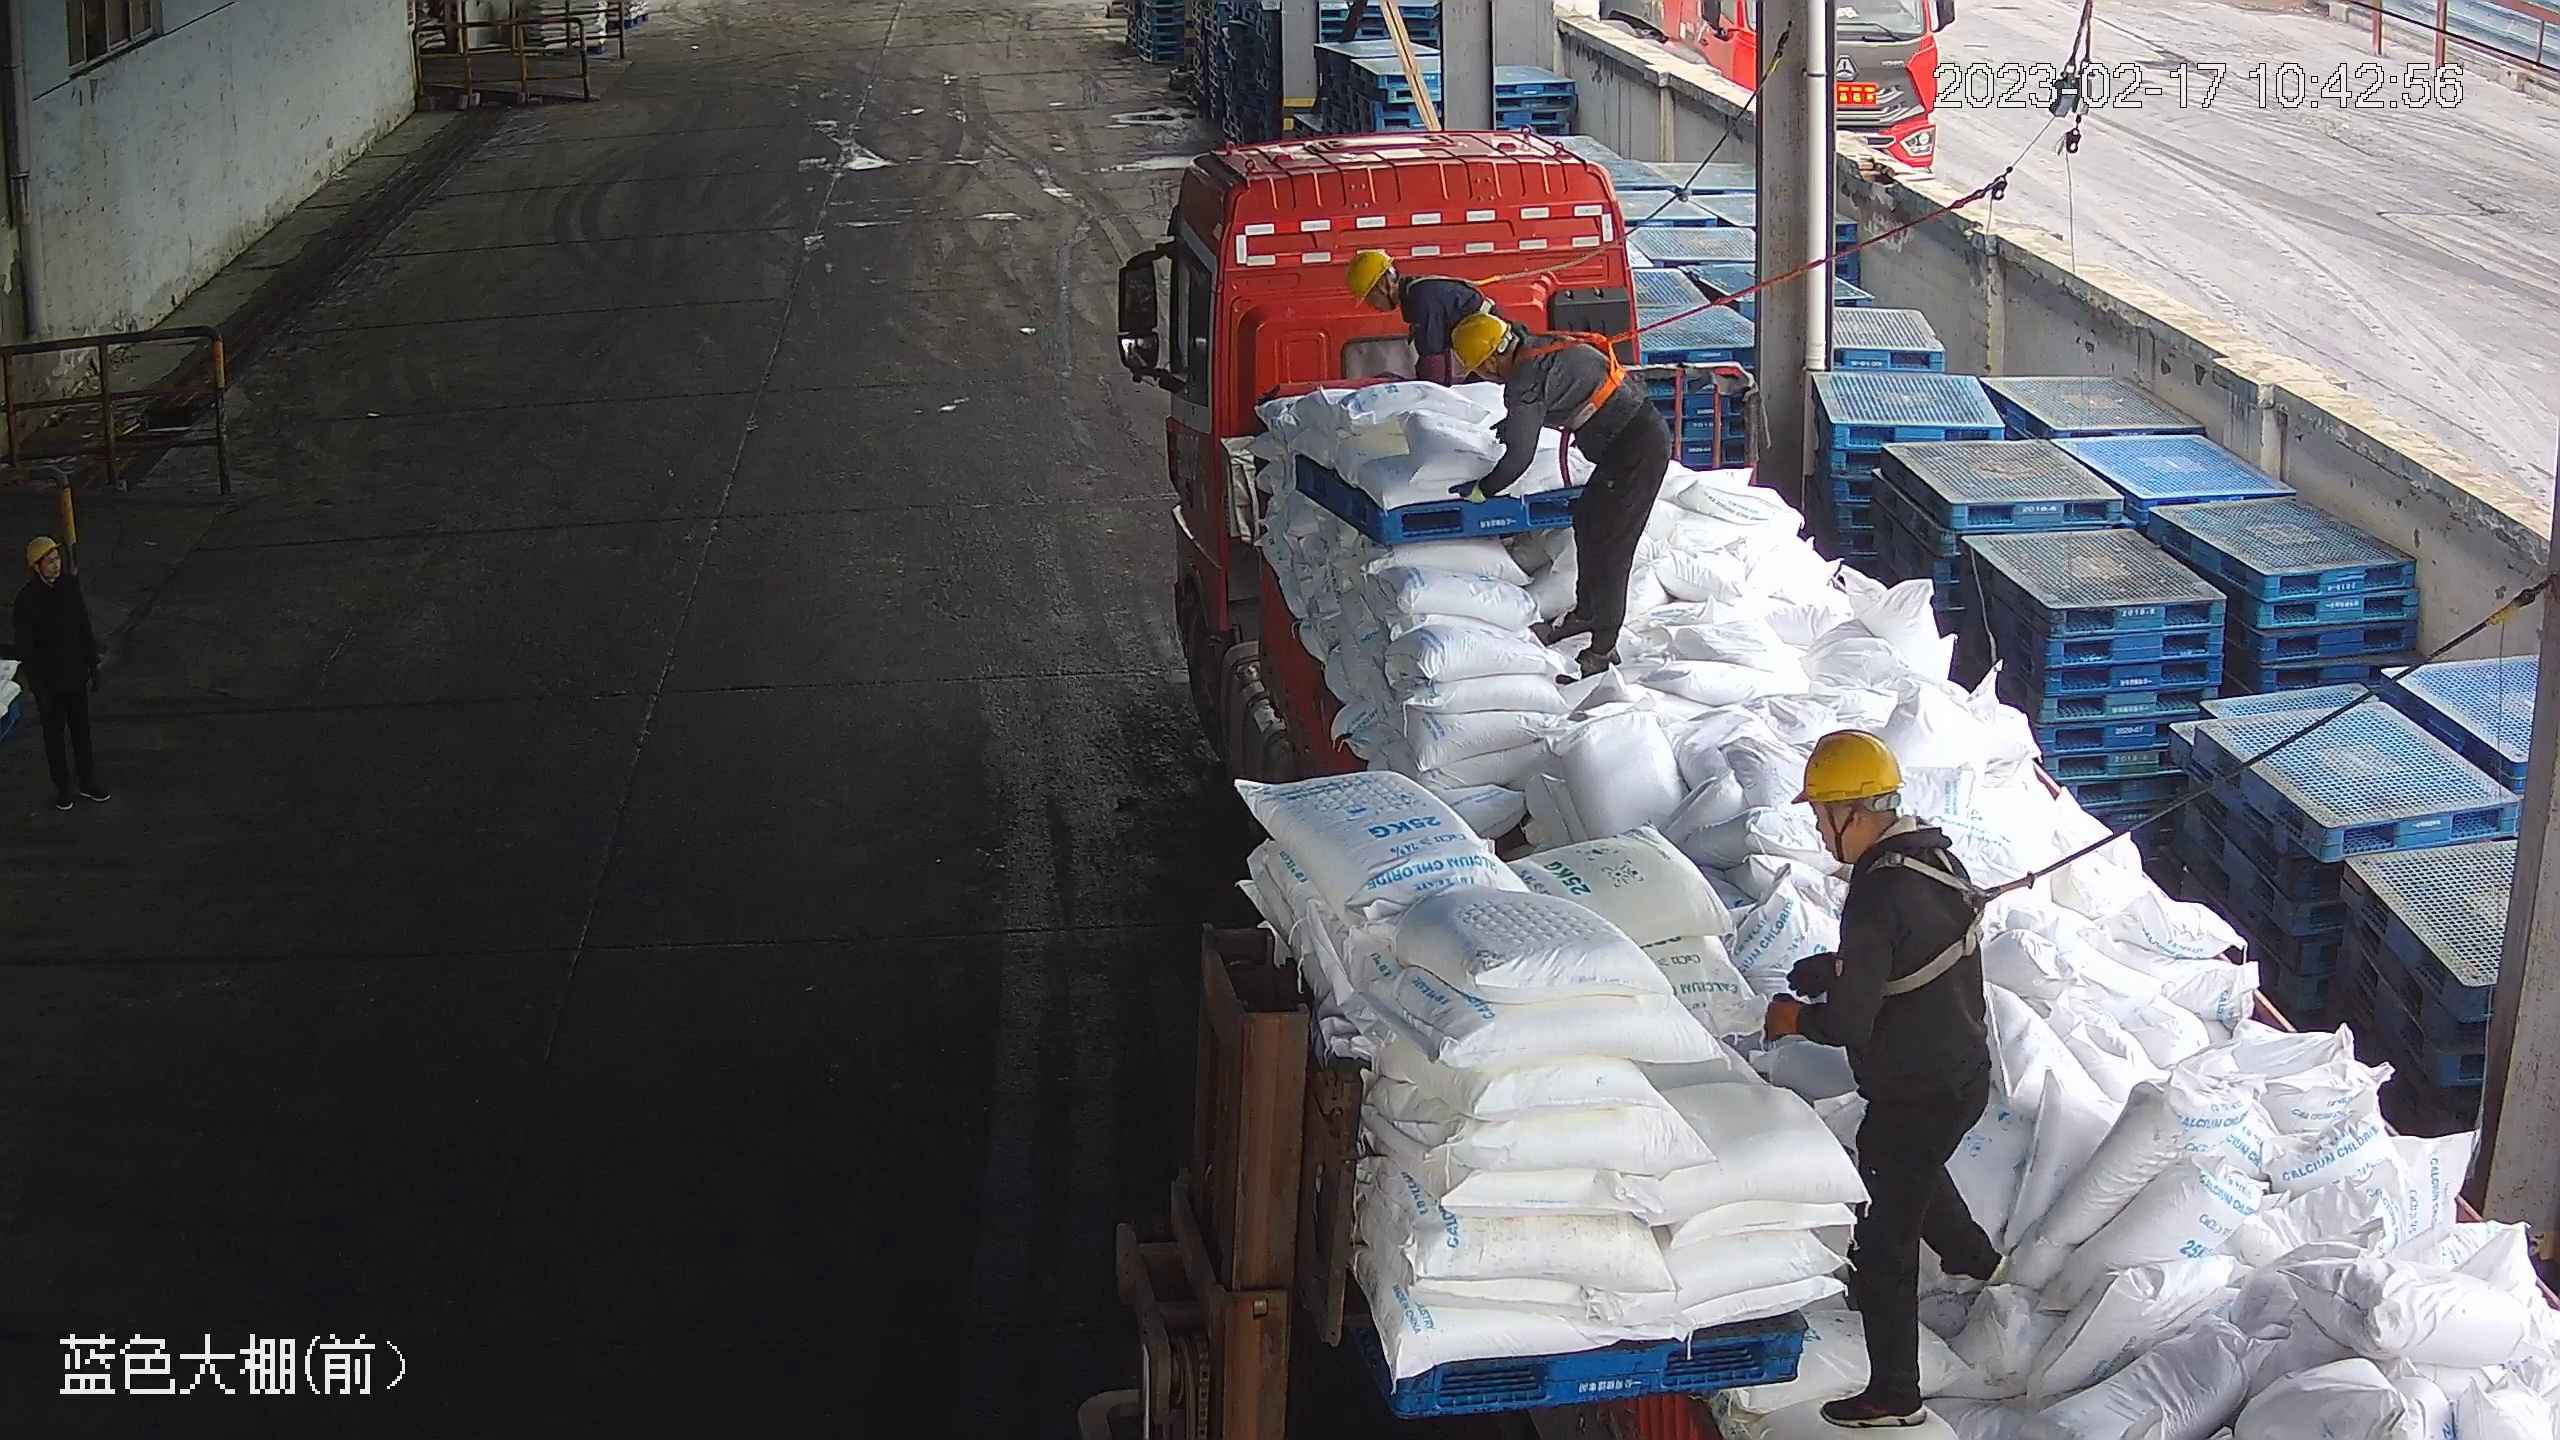belt: (1865, 832, 2024, 998), (1526, 323, 1635, 422), (1408, 269, 1510, 301)
head: (1788, 730, 1977, 925), (1453, 310, 1586, 409), (1344, 246, 1457, 332), (10, 534, 90, 619)
helmet: (1788, 726, 1905, 805), (1450, 309, 1512, 375), (1344, 246, 1393, 302), (25, 535, 62, 565)
people: (1755, 722, 2011, 1431), (1455, 308, 1670, 678), (7, 532, 112, 812), (1332, 243, 1506, 381)
truck: (1128, 123, 2544, 1440)
